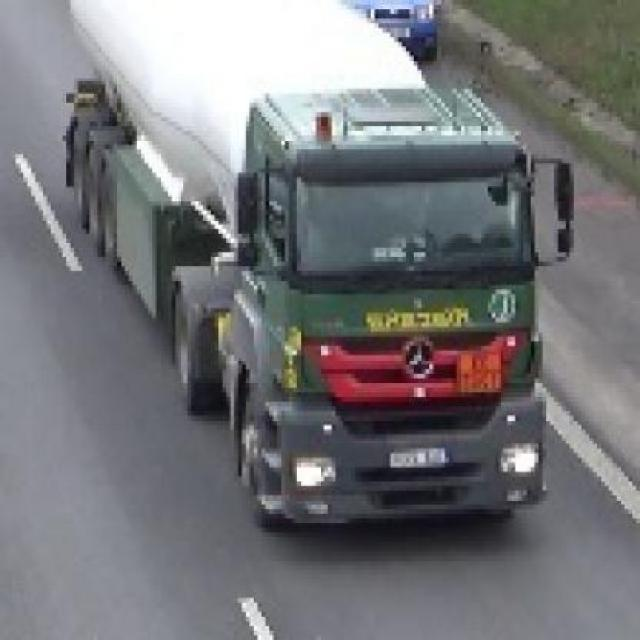truck: (54, 0, 587, 552)
